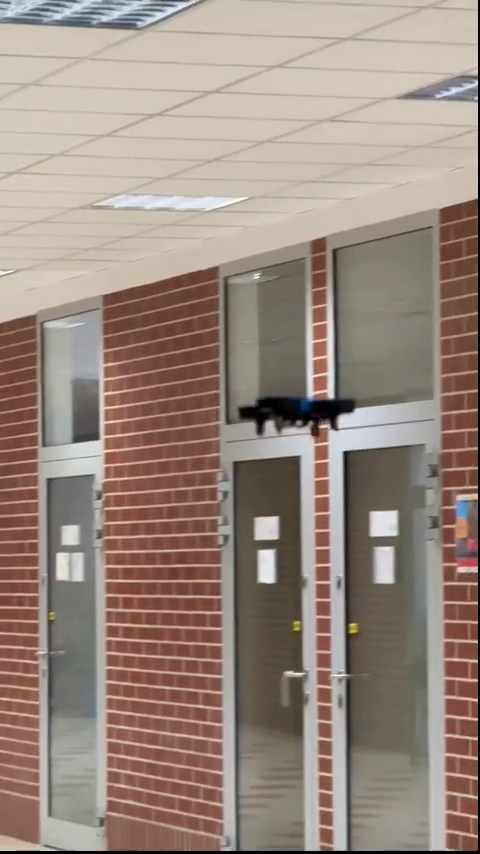drone: (238, 398, 357, 436)
